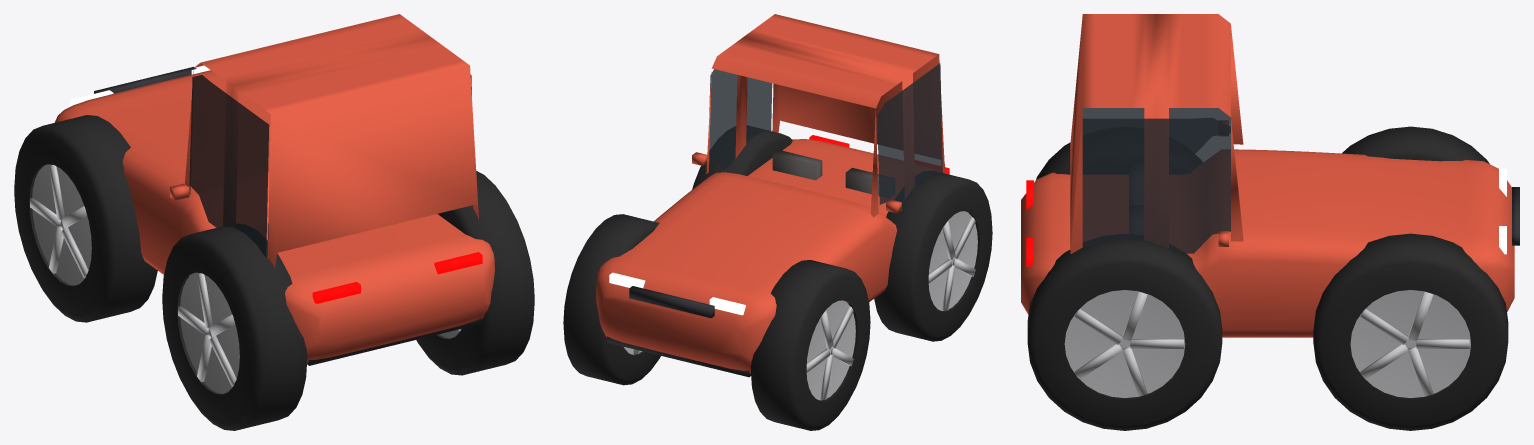
Rendered from tr05_tractor.glb.
The picture shows the model from 3 angles, left to right: view 1: azimuth 30°, elevation 25°; view 2: azimuth 150°, elevation 25°; view 3: azimuth 270°, elevation 25°; orthographic projection. The views are drawn at different scales.
Visible parts, largest first — view 1: tr05_tractor_Cabin, tr05_tractor_Body, tr05_tractor_Wheel_RL, tr05_tractor_Wheel_FL, tr05_tractor_Wheel_RR, tr05_tractor_Glass, tr05_tractor_Lights_Rear; view 2: tr05_tractor_Body, tr05_tractor_Cabin, tr05_tractor_Wheel_FL, tr05_tractor_Wheel_RL, tr05_tractor_Glass, tr05_tractor_Wheel_FR, tr05_tractor_Wheel_RR, tr05_tractor_Interior, tr05_tractor_Lights_Front; view 3: tr05_tractor_Body, tr05_tractor_Wheel_RR, tr05_tractor_Wheel_FR, tr05_tractor_Cabin, tr05_tractor_Glass, tr05_tractor_Wheel_FL, tr05_tractor_Wheel_RL, tr05_tractor_Interior.
Part boxes in pixels (x1,y1,x2,y2): tr05_tractor_Cabin: (185,14,478,268); tr05_tractor_Body: (54,66,494,365); tr05_tractor_Wheel_RL: (162,224,307,430); tr05_tractor_Wheel_FL: (14,115,157,322); tr05_tractor_Wheel_RR: (416,171,534,375); tr05_tractor_Glass: (189,75,471,257); tr05_tractor_Lights_Rear: (312,252,482,303); tr05_tractor_Body: (596,139,948,377); tr05_tractor_Cabin: (705,14,945,217); tr05_tractor_Wheel_FL: (750,260,870,430); tr05_tractor_Wheel_RL: (874,171,992,341); tr05_tractor_Glass: (709,63,942,207); tr05_tractor_Wheel_FR: (563,214,660,385); tr05_tractor_Wheel_RR: (692,126,792,189); tr05_tractor_Interior: (772,150,894,197); tr05_tractor_Lights_Front: (609,272,745,315); tr05_tractor_Body: (1021,121,1519,337); tr05_tractor_Wheel_RR: (1027,234,1222,430); tr05_tractor_Wheel_FR: (1313,233,1508,430); tr05_tractor_Cabin: (1070,14,1243,253); tr05_tractor_Glass: (1082,108,1230,253); tr05_tractor_Wheel_FL: (1342,126,1489,163); tr05_tractor_Wheel_RL: (1036,142,1202,179); tr05_tractor_Interior: (1129,163,1143,234).
Size of what is drawn, in the model's own units: 2.4 by 2.6 by 3.84.
